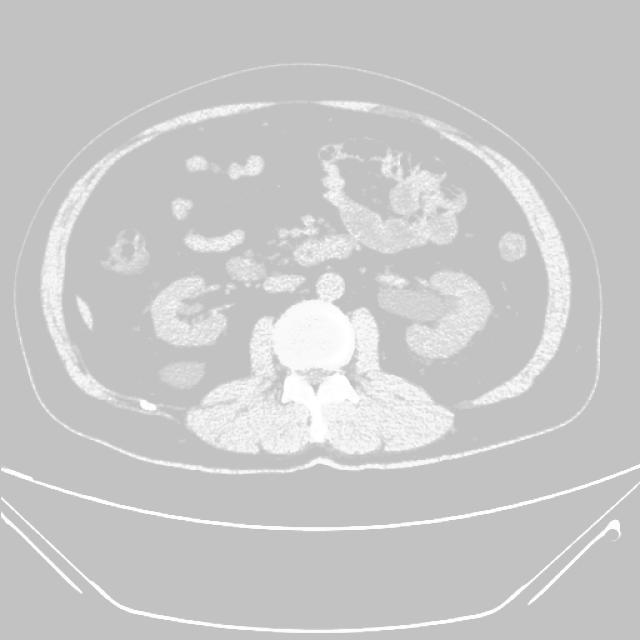cysts: (37, 90, 582, 470)
